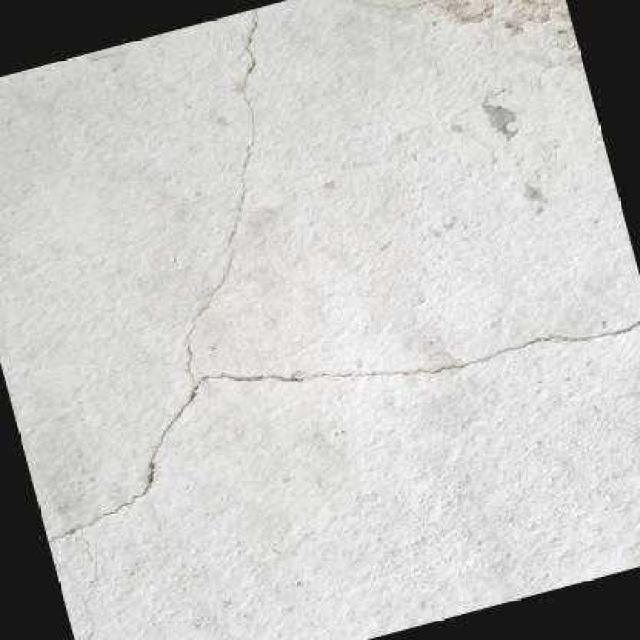D00: (47, 5, 640, 544)
